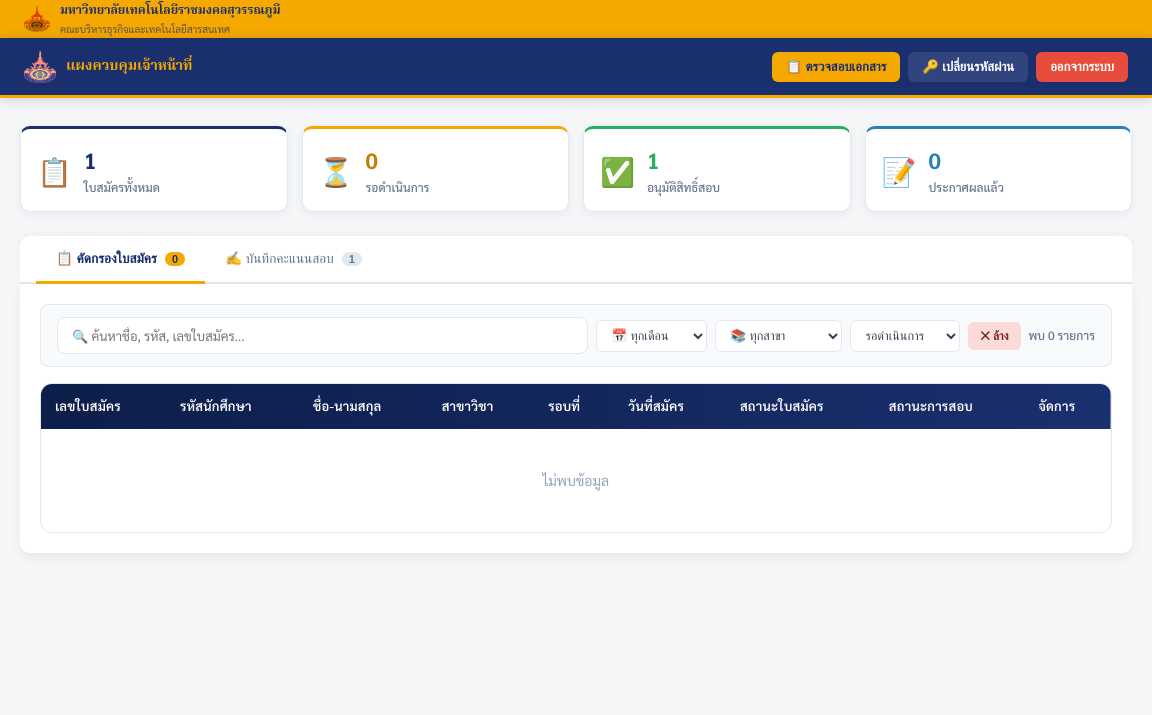
it: staff can enter valid scores and publish the result
Click the button "✍️ บันทึกคะแนนสอบ 1" at (294, 260), box [205,236,382,284]
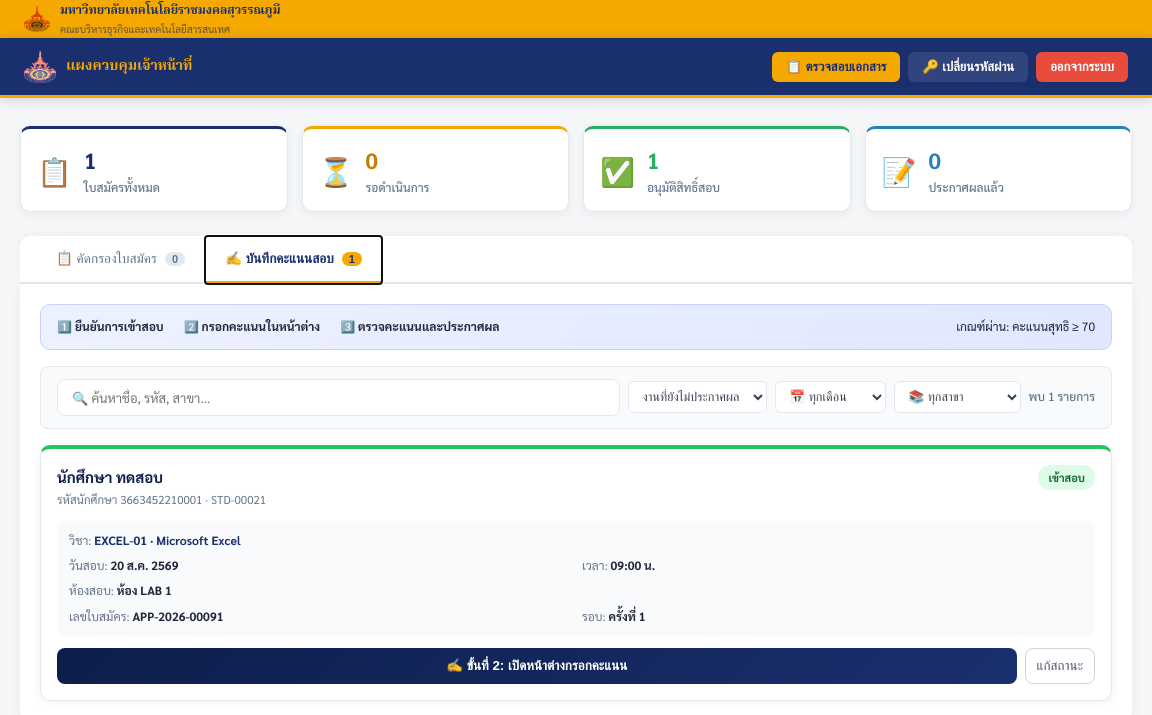
Click the button "✍️ ขั้นที่ 2: เปิดหน้าต่างกรอกคะแนน" at (537, 666), box [57,648,1017,684]
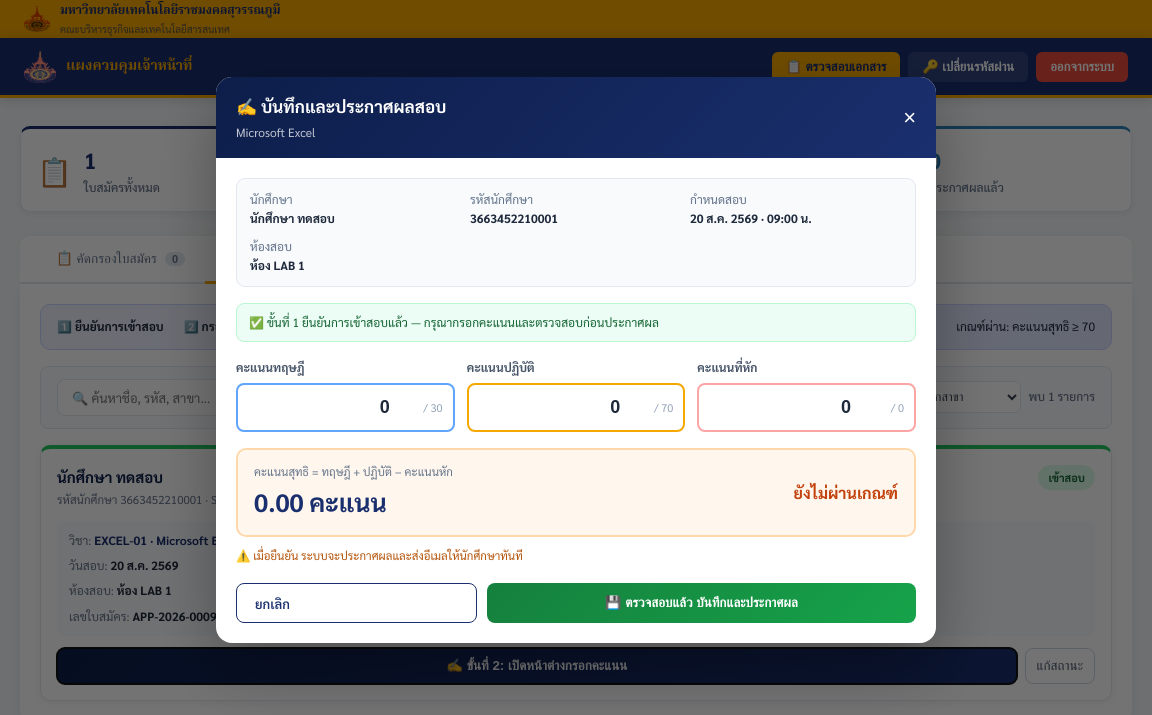
Now the number of number fields is 3
Replace the text in the number field next to "30" with "25" at (345, 408), box [236,383,455,432]
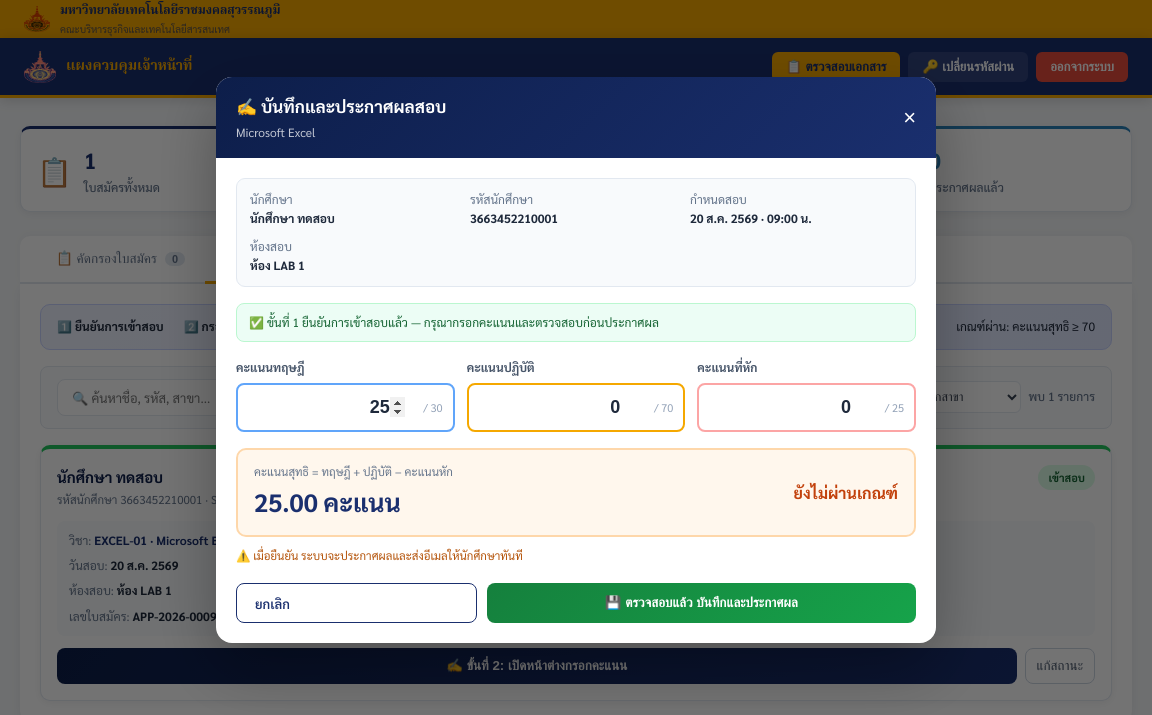
Replace the text in the number field below "คะแนนปฏิบัติ" with "60" at (576, 408), box [467,383,685,432]
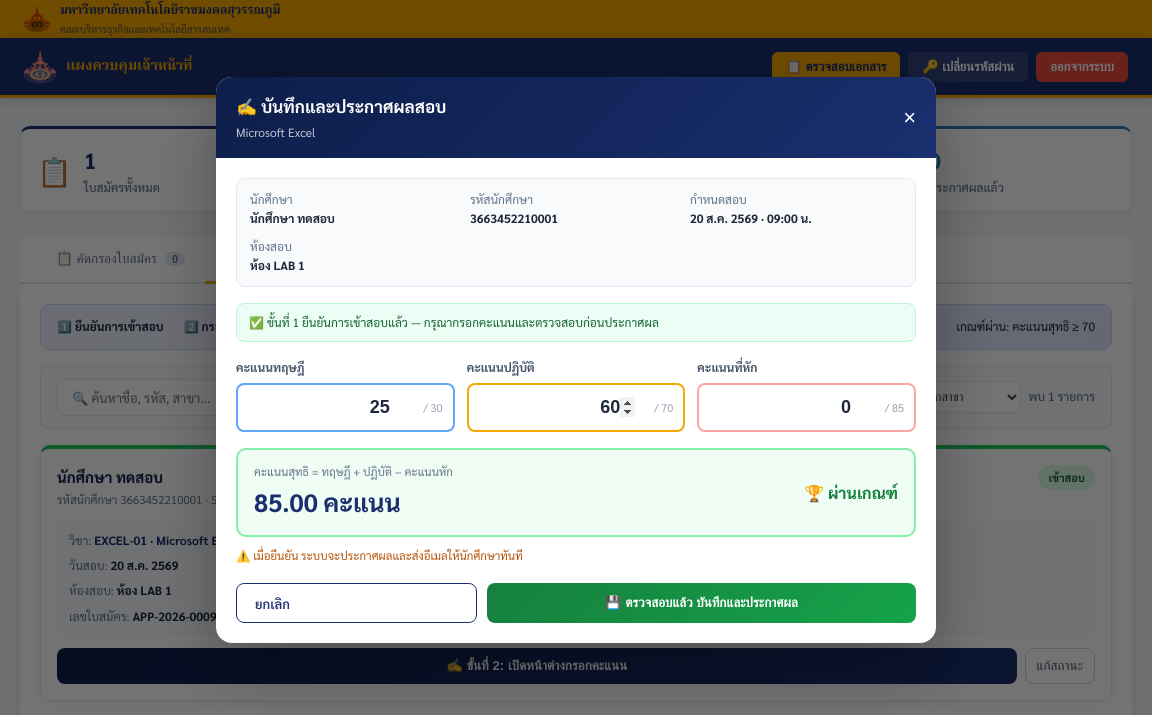
Replace the text in the number field below "คะแนนที่หัก" with "5" at (807, 408), box [697,383,916,432]
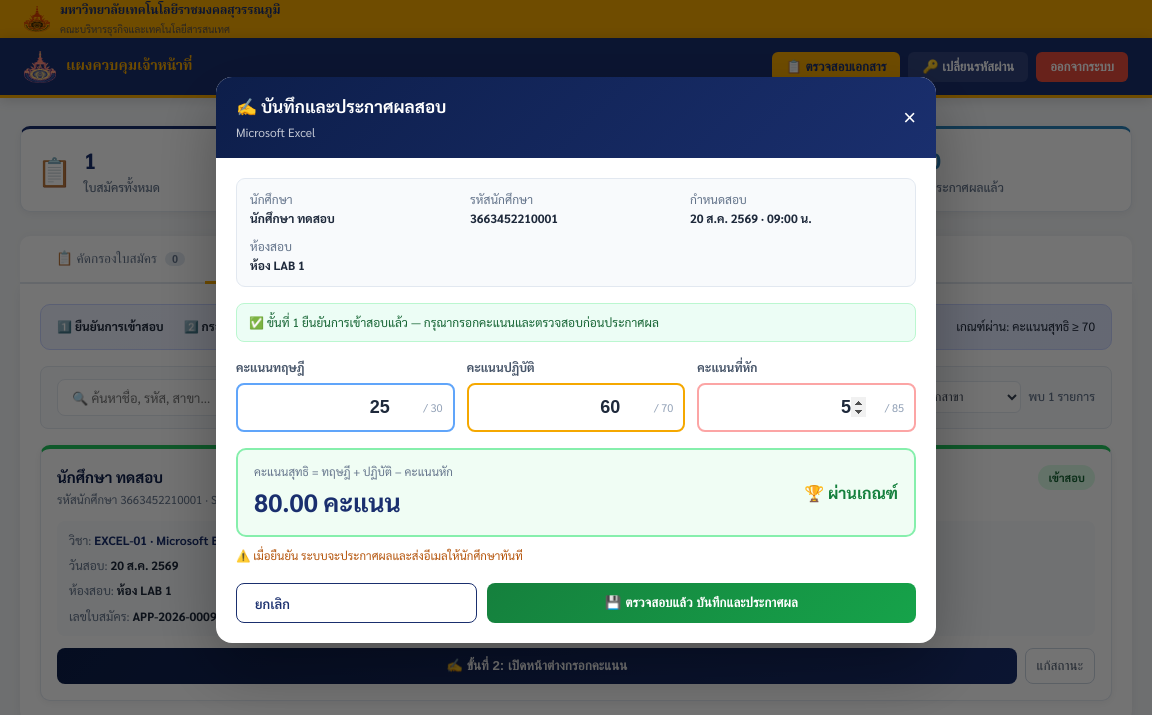
Click the button "💾 ตรวจสอบแล้ว บันทึกและประกาศผล" at (701, 603), box [487,583,916,623]
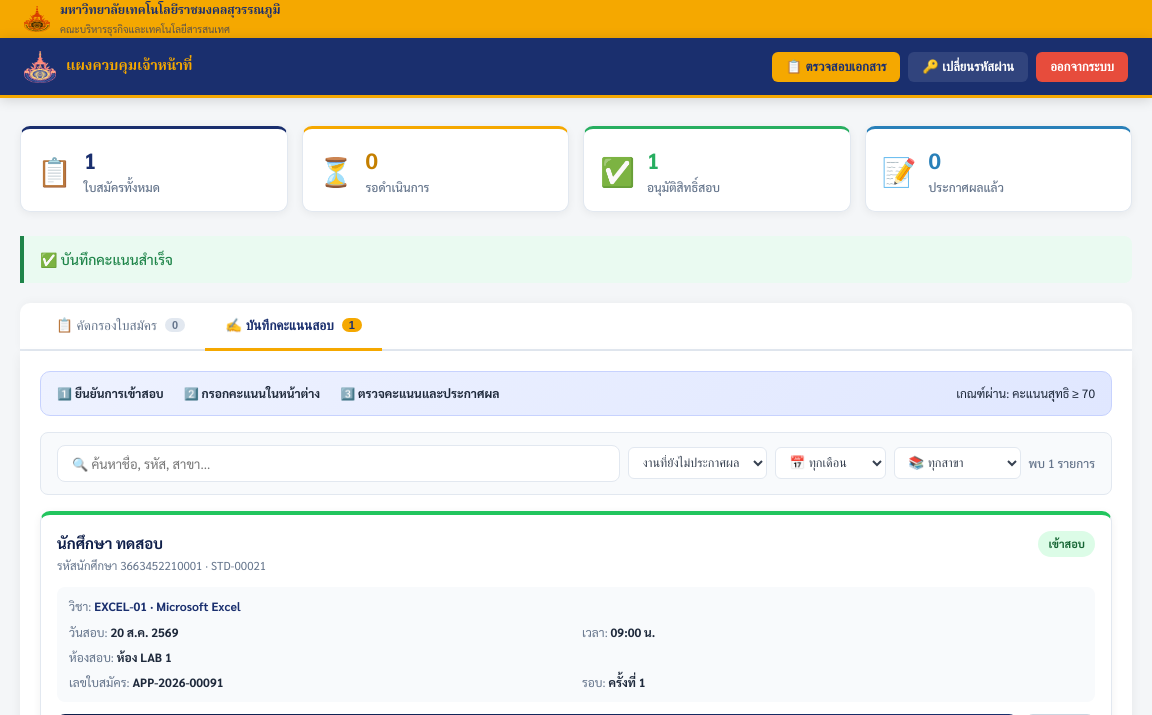
Now the text "บันทึกและประกาศผล" is gone
